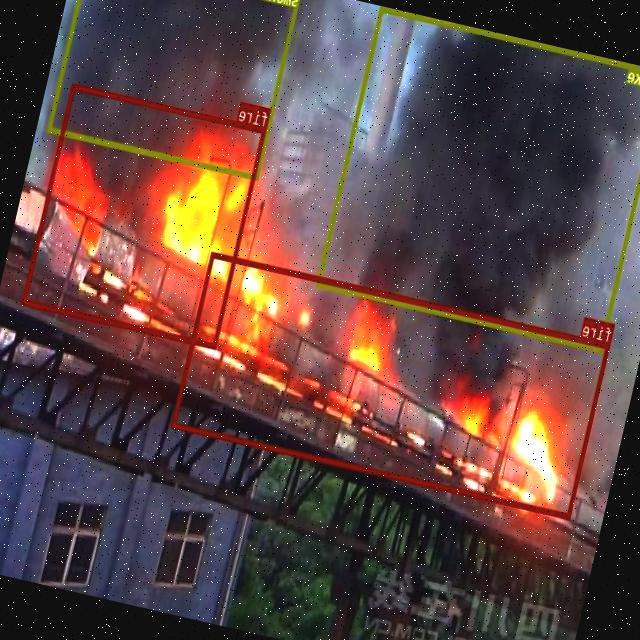fire: (172, 251, 610, 518), (21, 82, 268, 348)
smoke: (316, 5, 640, 352), (47, 0, 303, 180)
